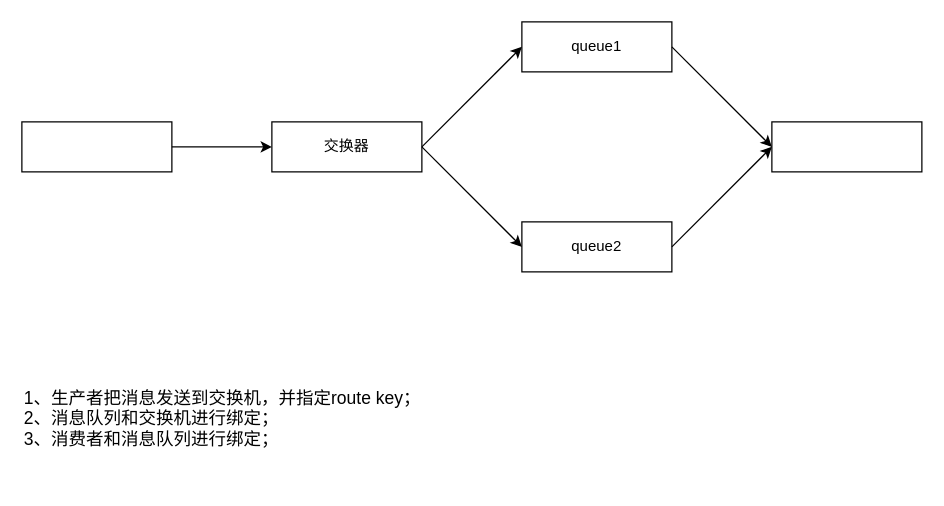
Some shapes in this 944 by 506 pixel diagram are drawn without their labels. The shapes that lost their labels are listed below. From the top down, each one's centre as x and y in pixels, then its label:
At (96,146): "生产者".
At (846,146): "consumer".
